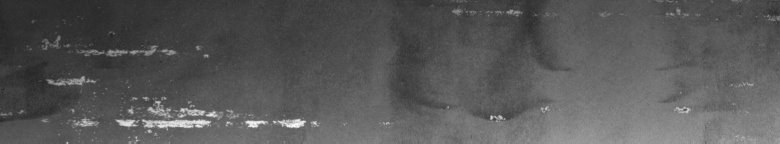kb: (4, 20, 320, 136)
